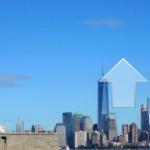缺口: (99, 57, 147, 109)
